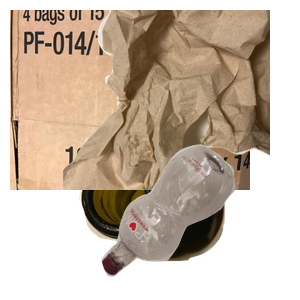cardboard: (10, 10, 250, 190)
glass: (77, 147, 295, 300)
plastic: (99, 142, 300, 300)
trash: (60, 10, 300, 190)
